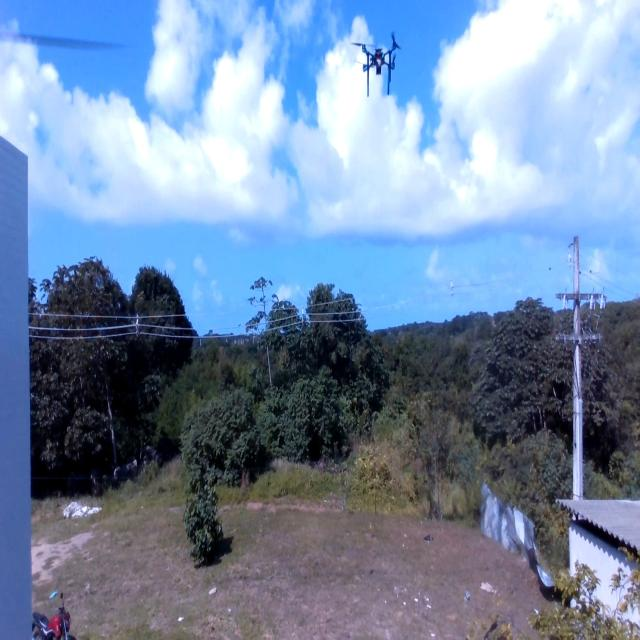-uav-: (342, 28, 418, 117)
